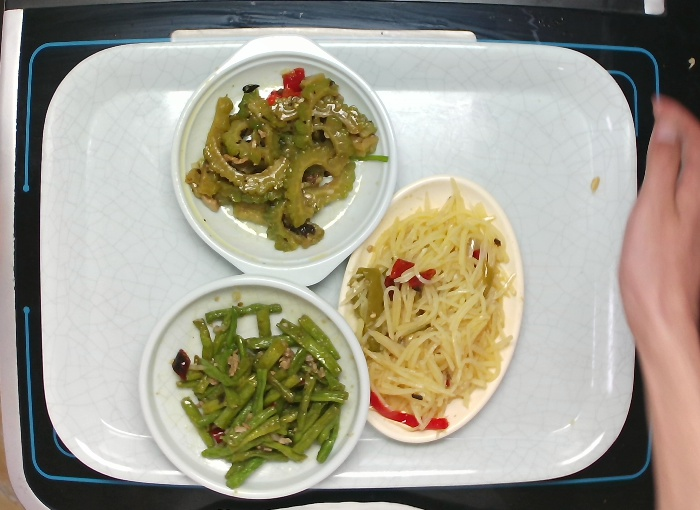JYsf-Shuang_Er_Pan: (170, 32, 400, 290)
JYsf-Tuo_Yuan_Wan: (335, 174, 527, 446)
JYsf-Xiao_Yuan_Pan: (136, 272, 372, 501)
